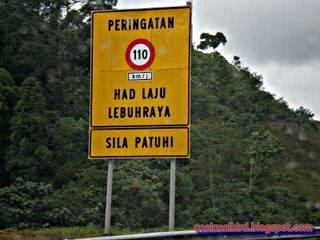Speed_limit_110km: (125, 38, 156, 71)
